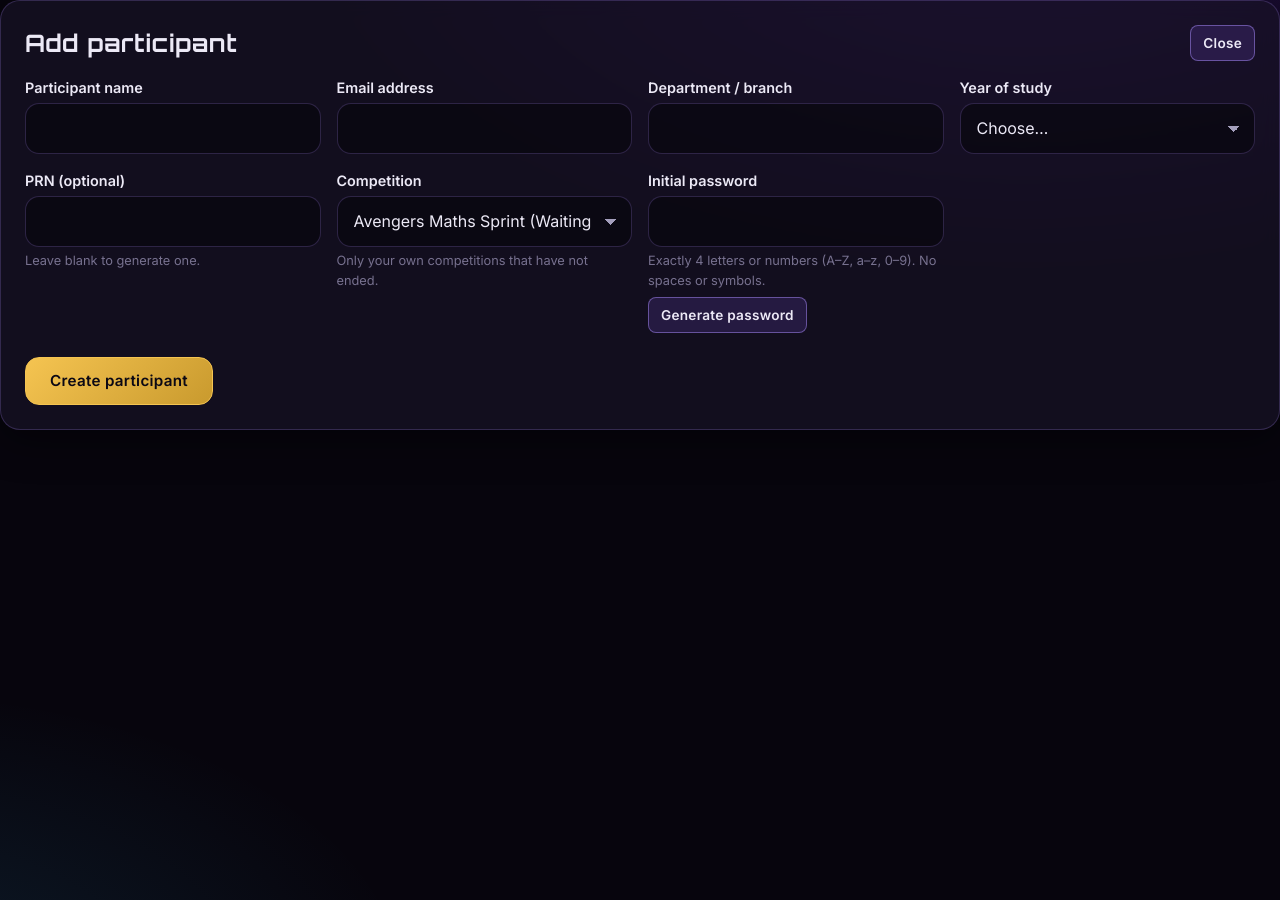
it: AddParticipantForm › creates the participant, shows success without the password, and resets the form
This screenshot has width=1280, height=900.
Expected: the dropdown labelled "Competition" shows "Avengers Maths Sprint (Waiting)", [336, 196, 632, 247]
Type "Riya Mehta" into the field labelled "Participant name" at coordinates (173, 129), box [25, 103, 320, 154]
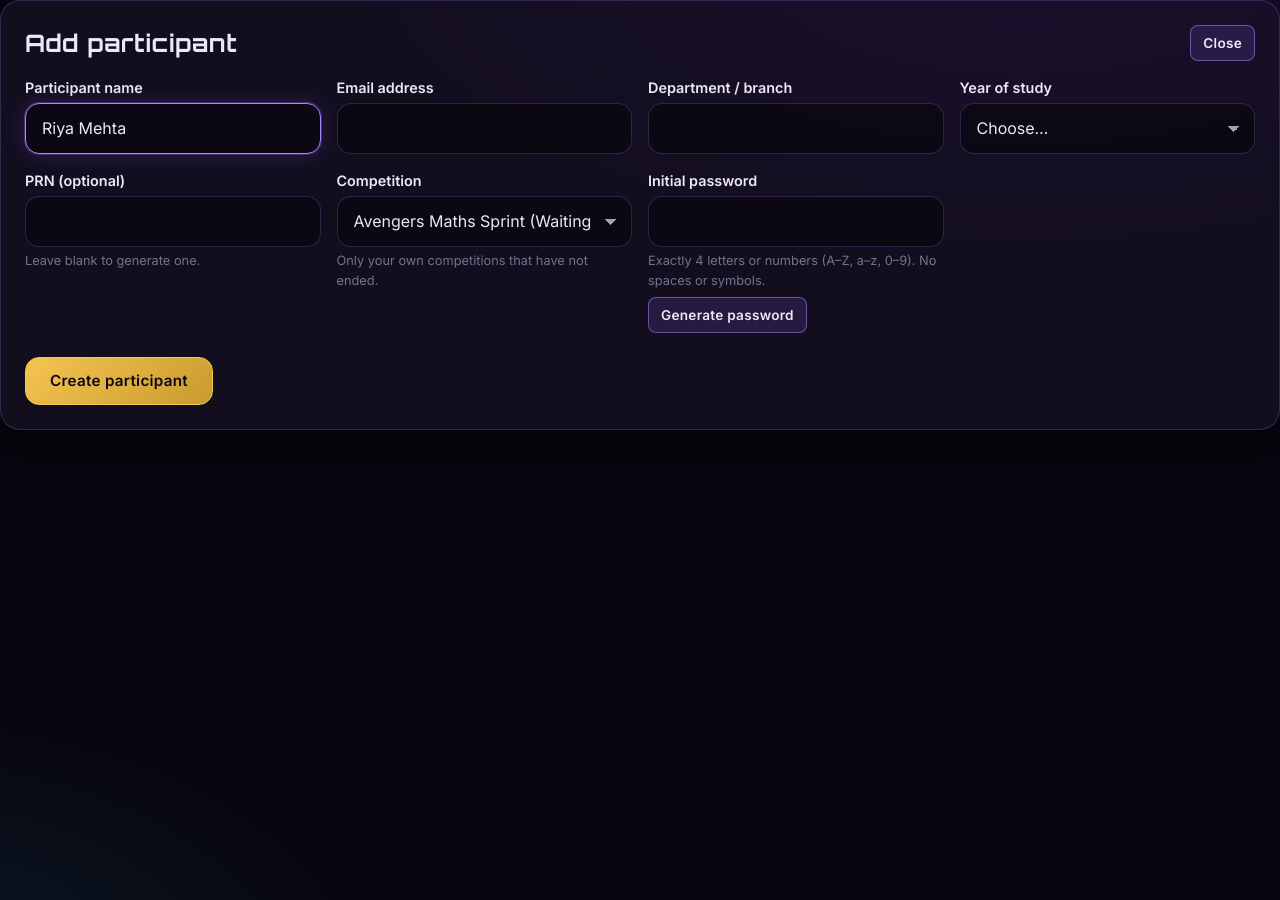
Type "riya.mehta03@gmail.com" into the field labelled "Email address" at coordinates (484, 129), box [336, 103, 632, 154]
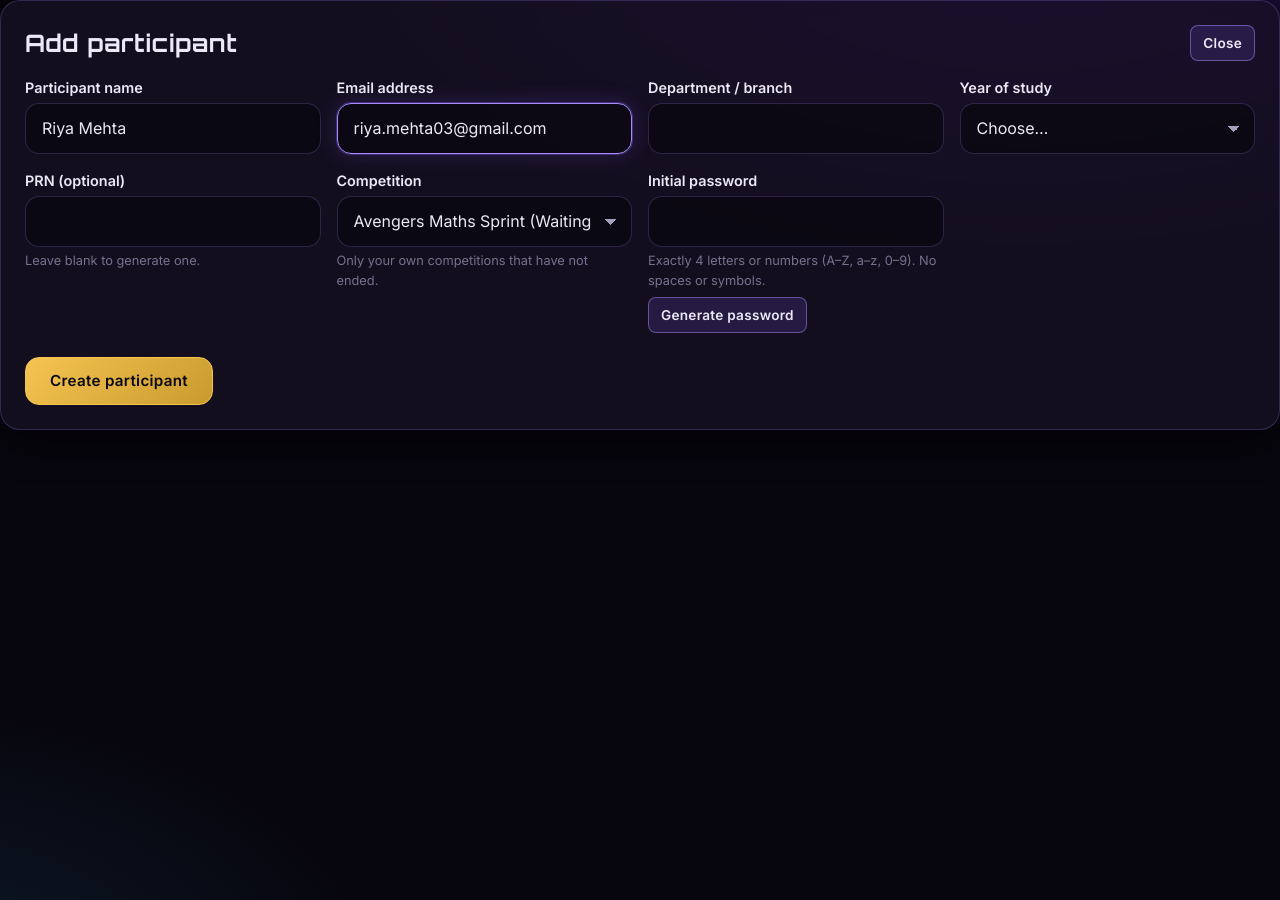
Type "Computer Engineering" into the field labelled "Department / branch" at coordinates (796, 129), box [648, 103, 944, 154]
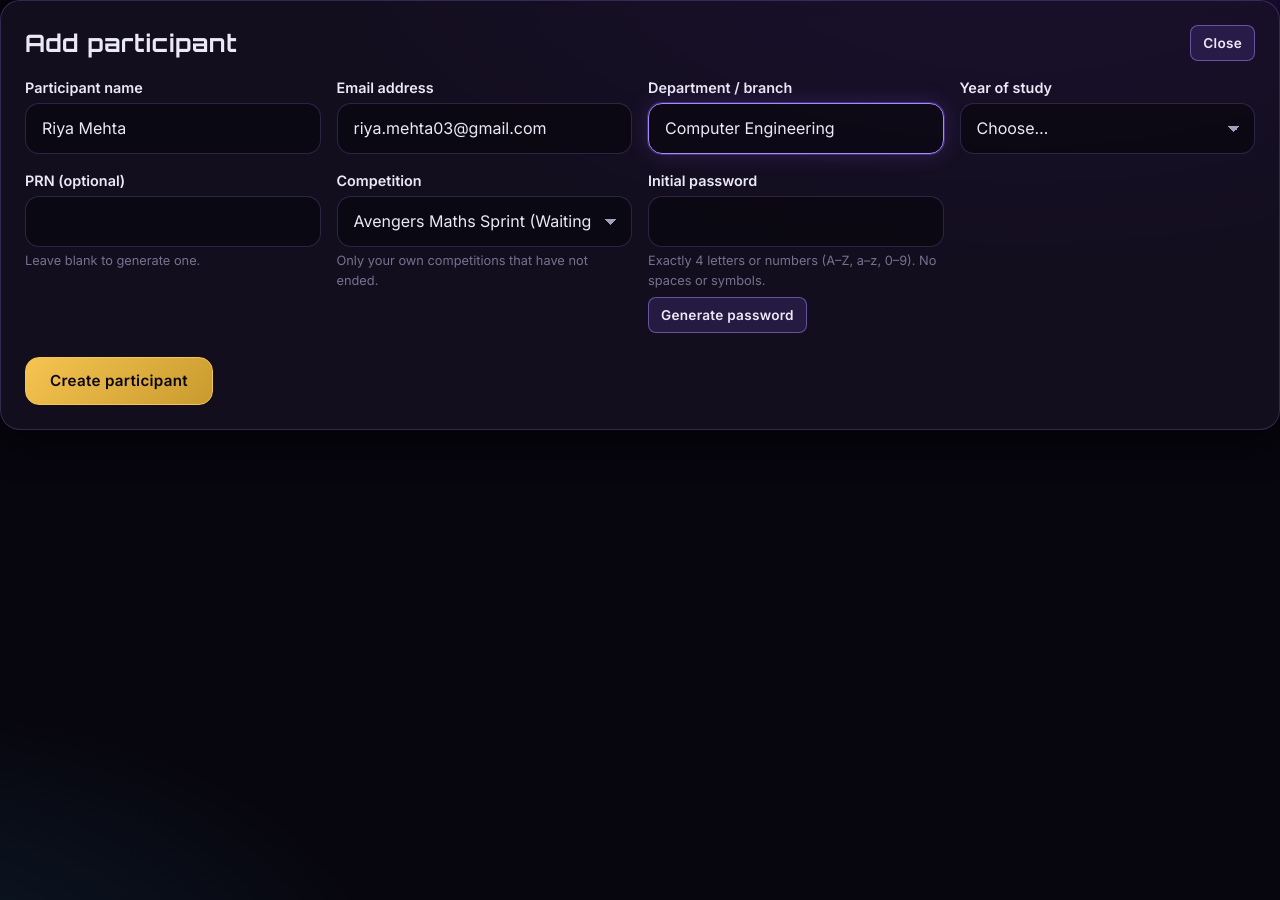
Select "FE" in the dropdown labelled "Year of study" at coordinates (1107, 129), box [960, 103, 1255, 154]
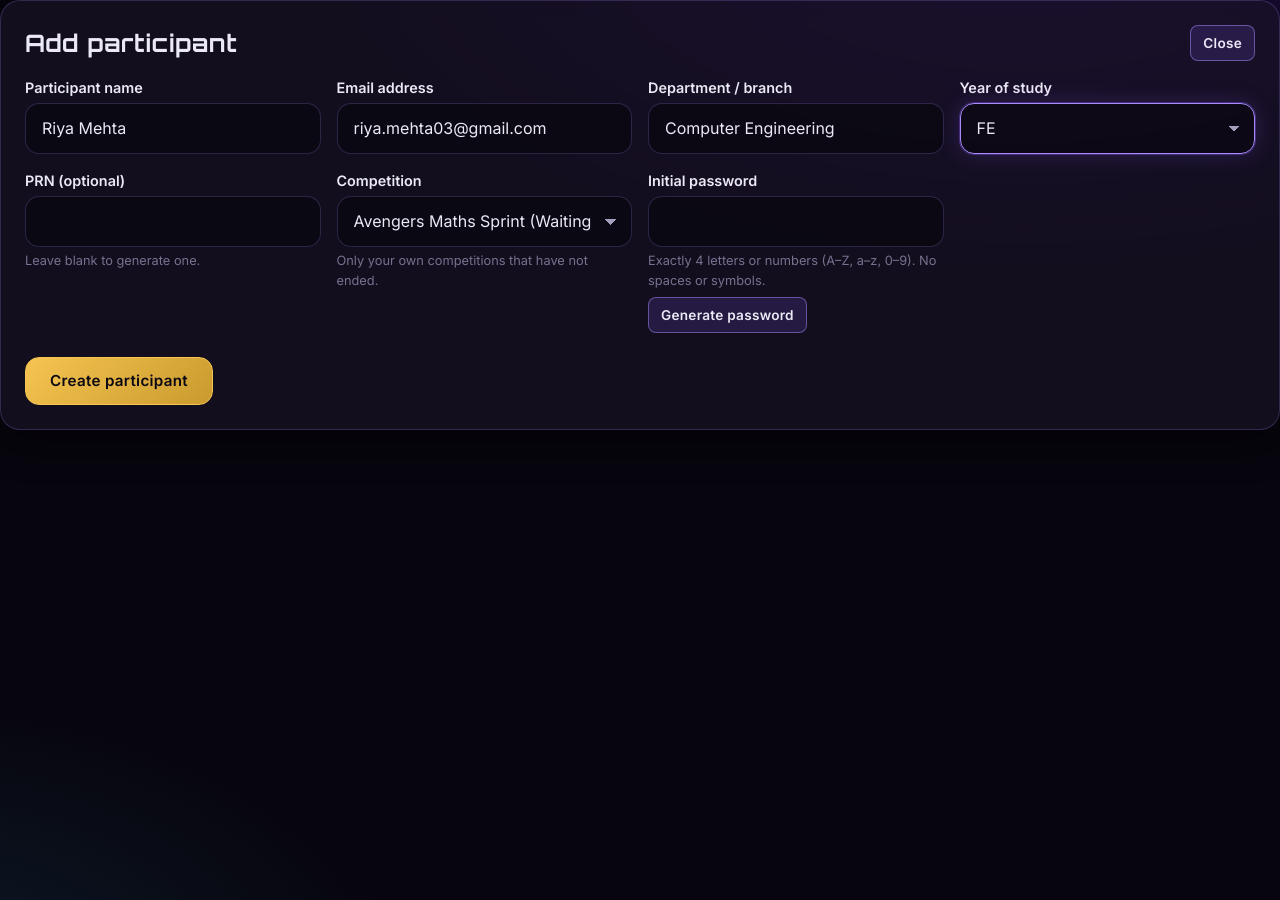
Type "Ab12" into the field labelled "Initial password" at coordinates (796, 222), box [648, 196, 944, 247]
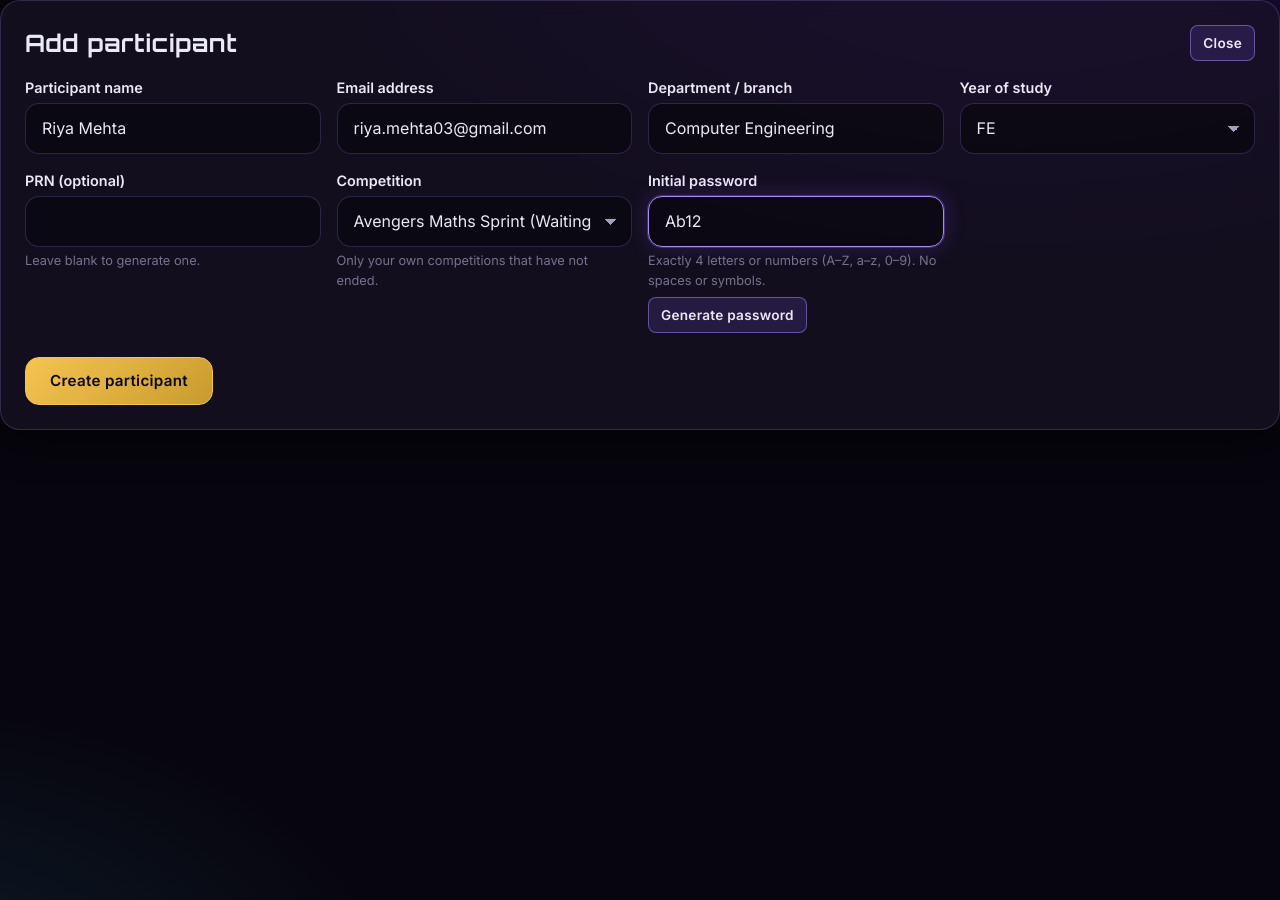
Click the button "Create participant" at coordinates (119, 381), box [25, 357, 213, 405]
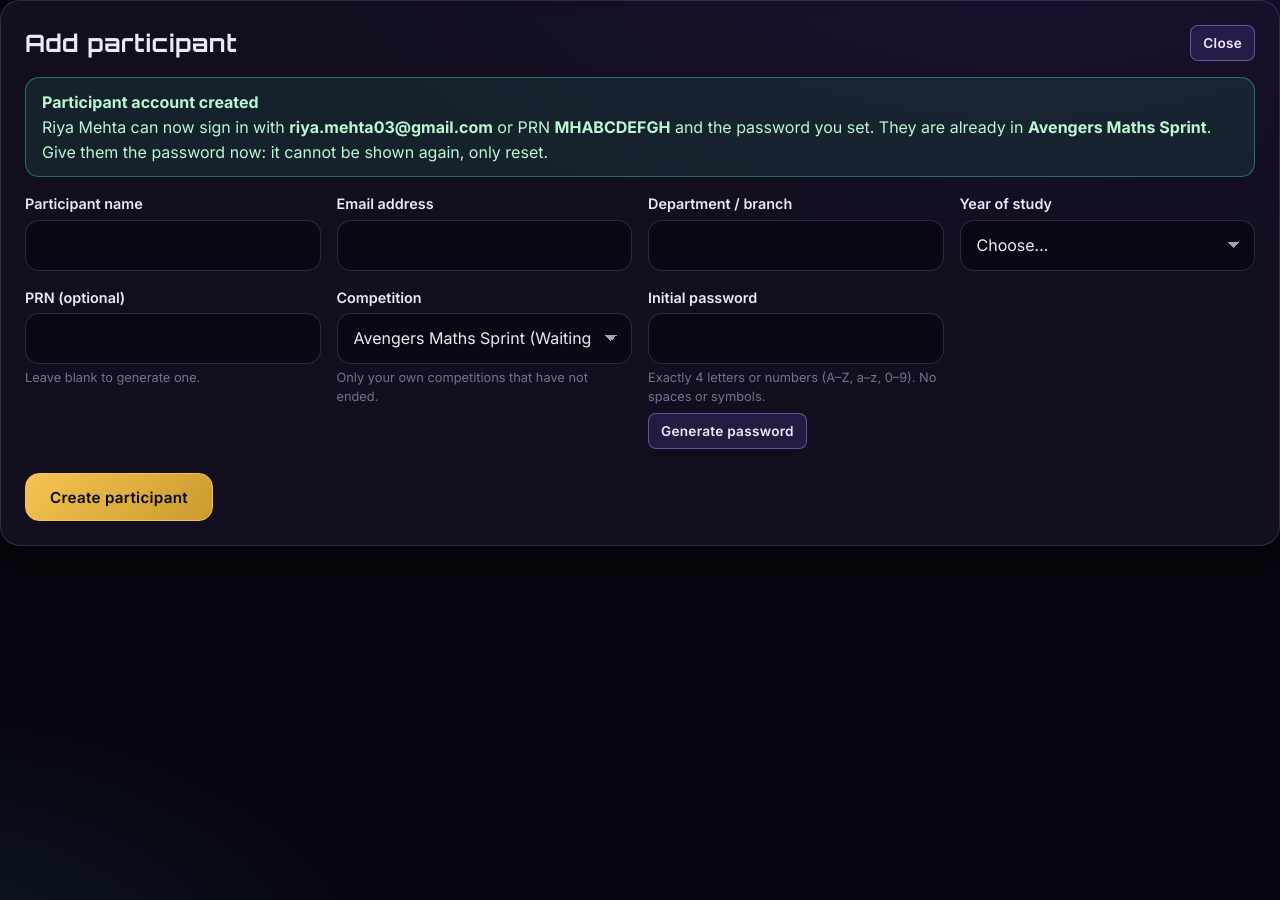
Expected: the text "Participant account created" is shown, [42, 92, 259, 112]
Expected: the text "MHABCDEFGH" is shown, [554, 117, 670, 137]
Expected: the field labelled "Initial password" is empty, [648, 313, 944, 364]
